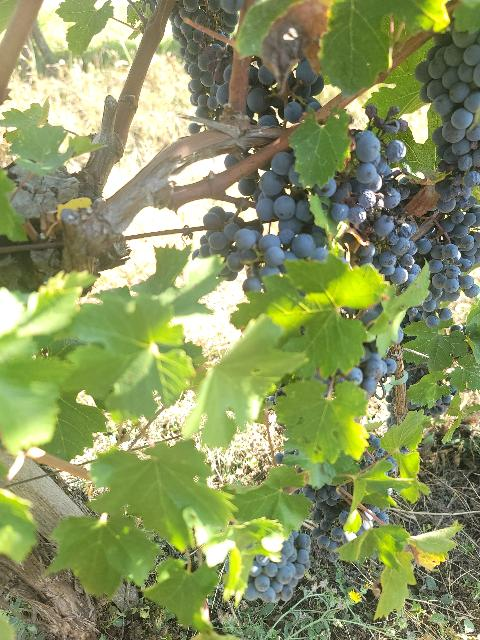grapes: (192, 151, 331, 291), (312, 104, 419, 281), (414, 22, 480, 212), (169, 0, 244, 119), (430, 196, 480, 301), (245, 530, 311, 604)
